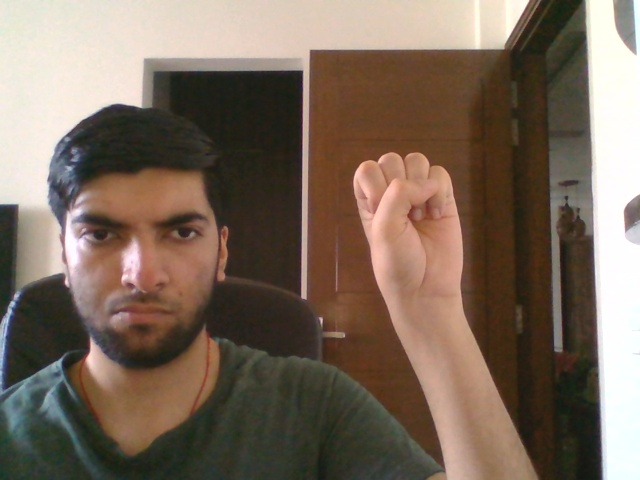LetterE: (352, 151, 464, 297)
